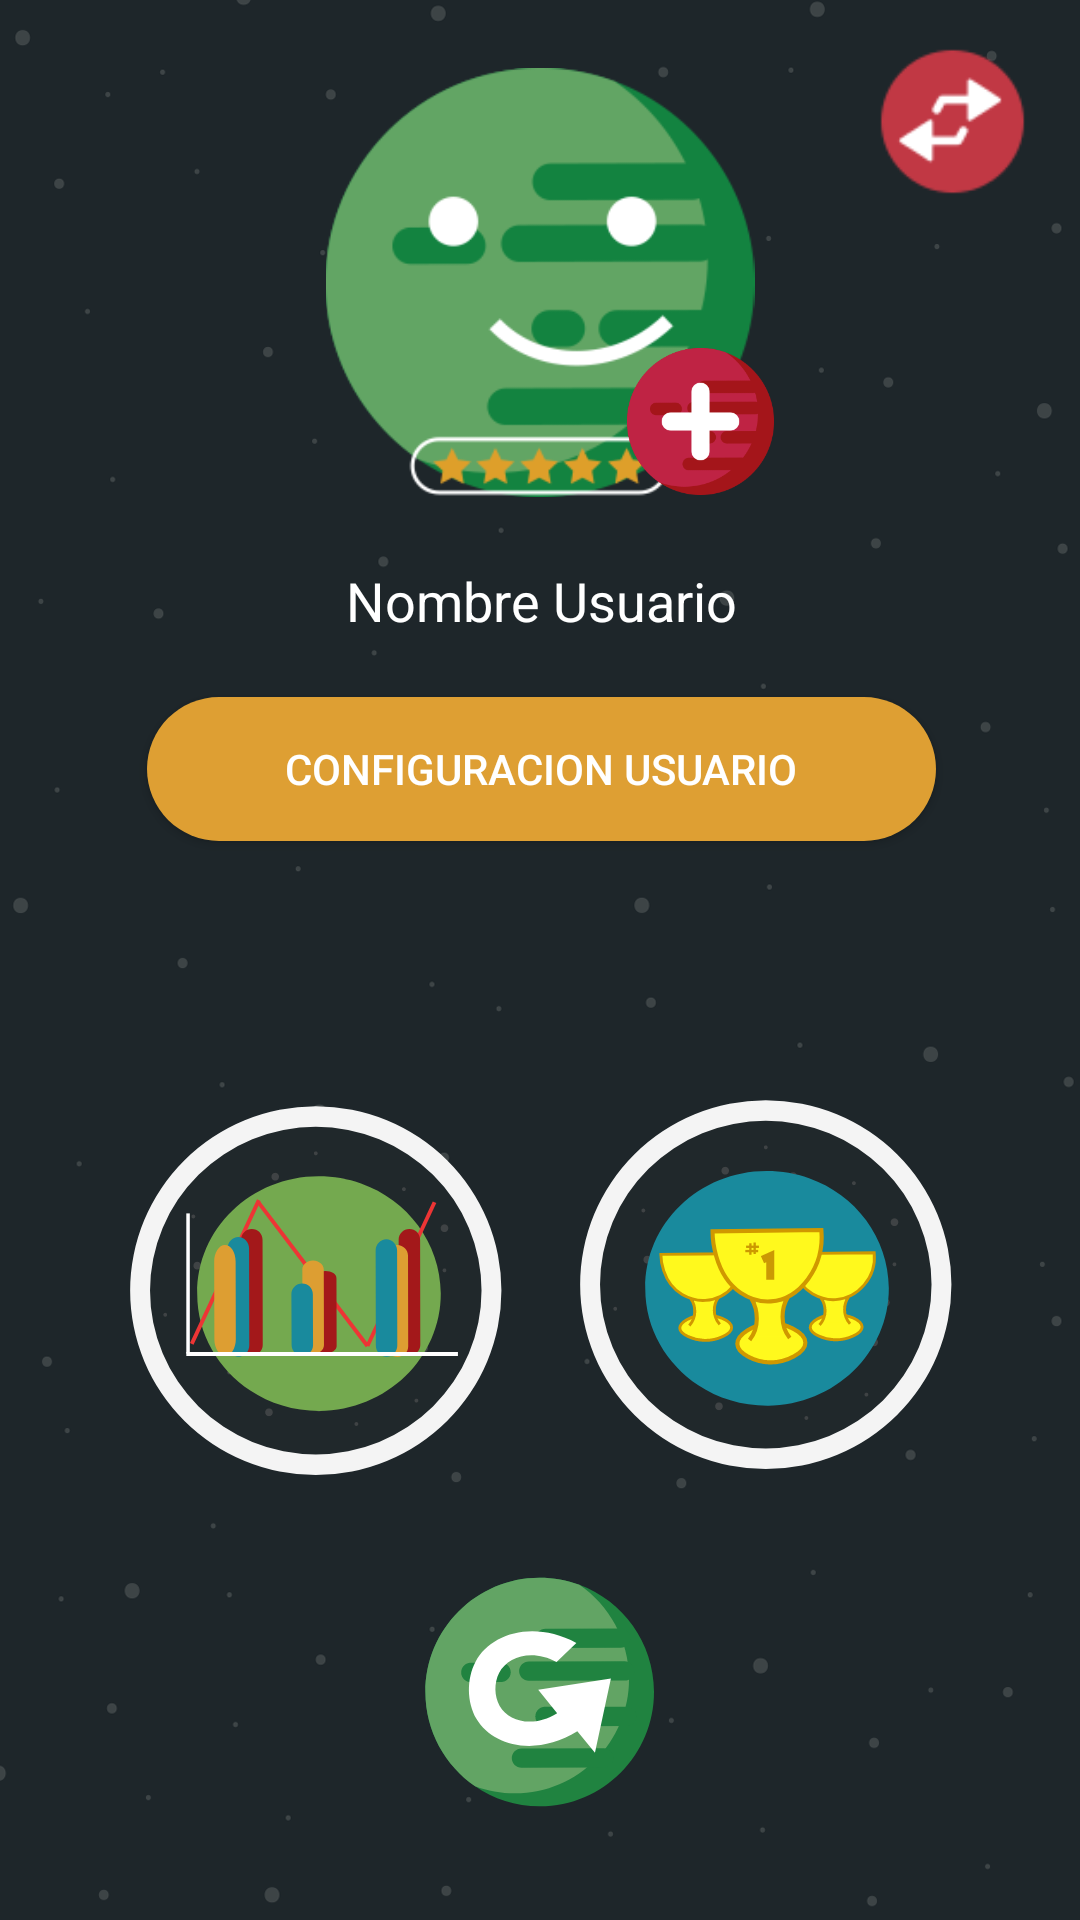

Named icons in this screenshot (1080px x 1920px) and their bounding boxes, (x1, y1, x2, y2):
cambiarusuario: (880, 49, 1025, 194)
